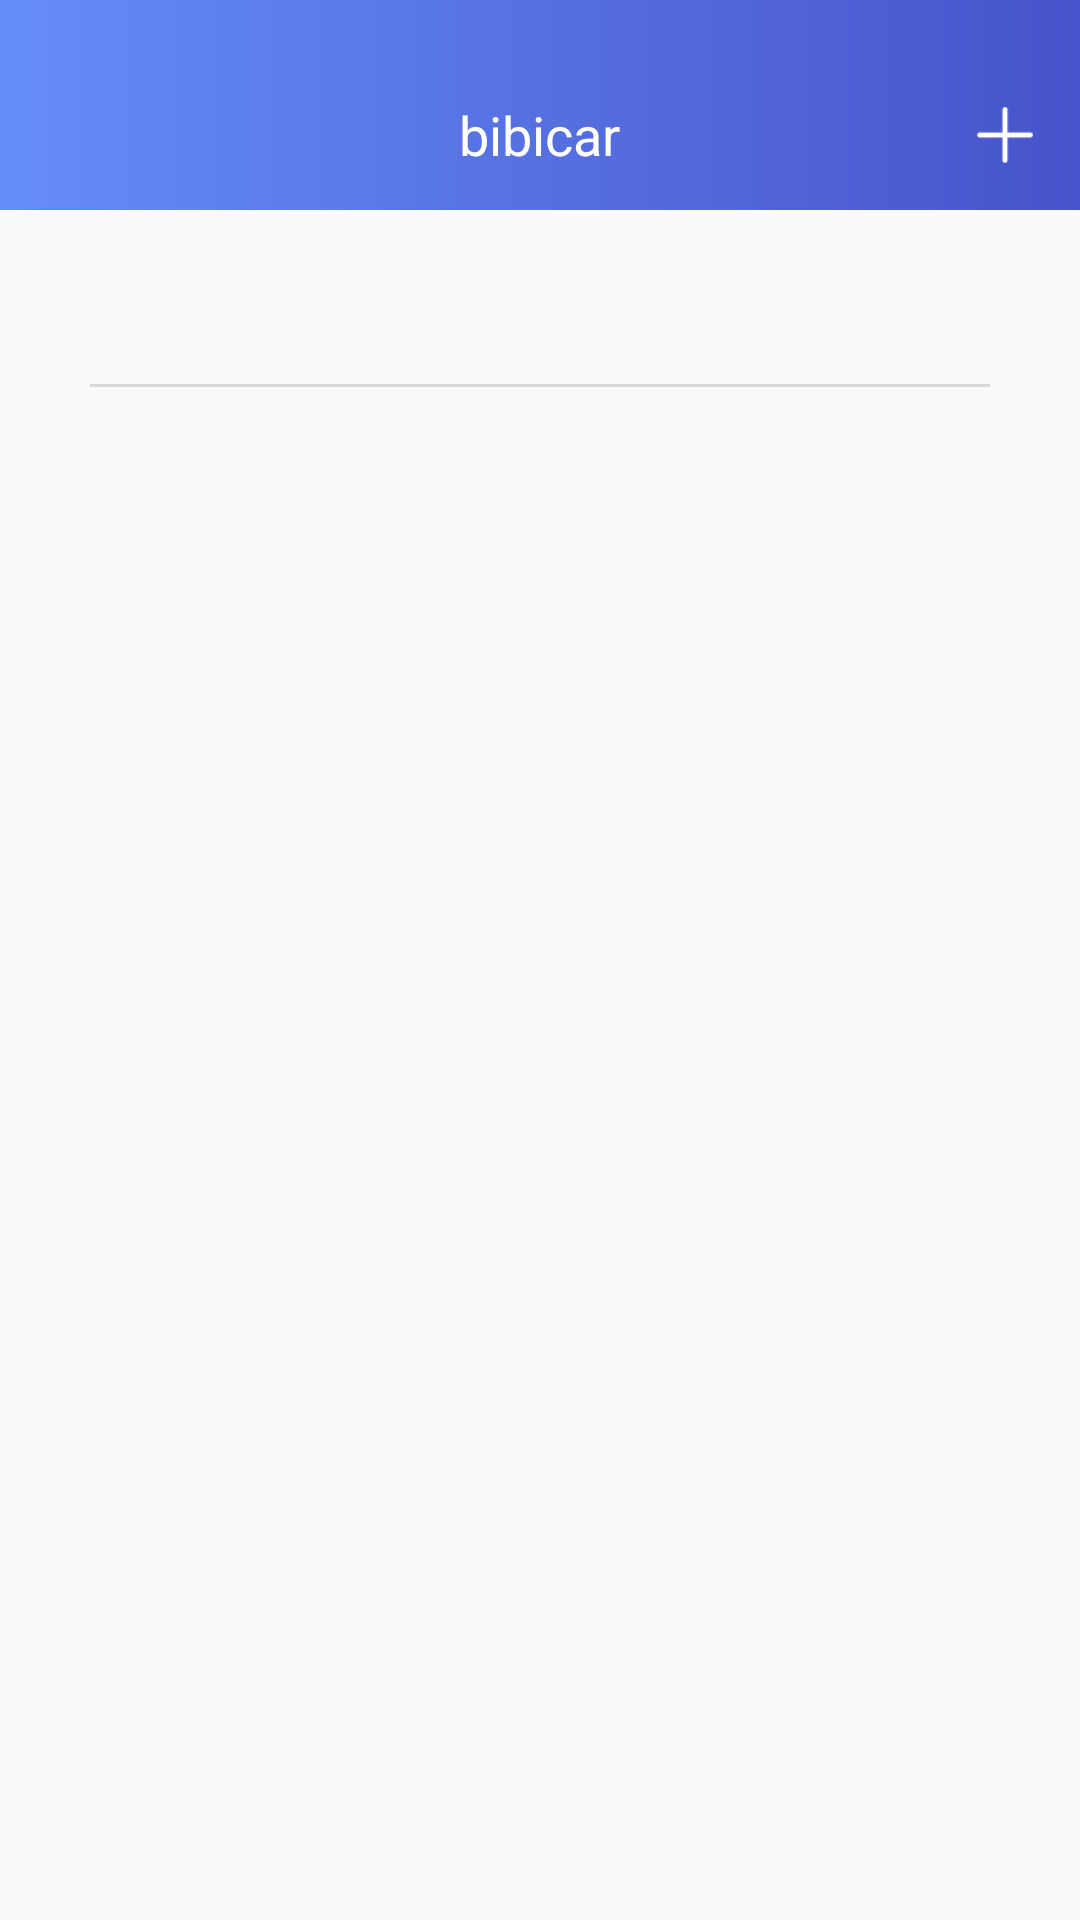

Screen size 1080×1920. Icon name, then its center in pixels as (x=x, y=y):
title bar add: (x=1005, y=135)
